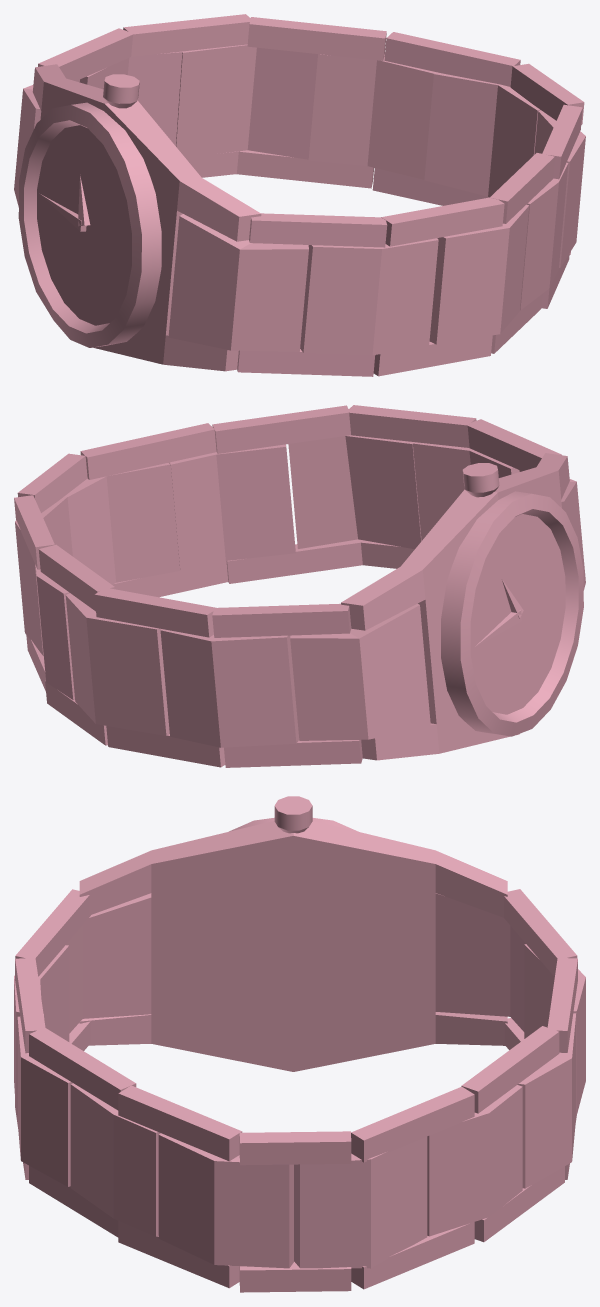
File: GoldWatch.fbx
3 renders of one model, top to bottom at view 1: azimuth 30°, elevation 25°; view 2: azimuth 150°, elevation 25°; view 3: azimuth 270°, elevation 25°, orthographic. The views are drawn at different scales.
Parts seen in each view (by area): view 1: GoldWatch; view 2: GoldWatch; view 3: GoldWatch.
Boxes of the visible parts, bbox=[...] form: GoldWatch: bbox=[14, 14, 585, 376]; GoldWatch: bbox=[14, 405, 585, 767]; GoldWatch: bbox=[14, 796, 585, 1292].
Bounding box in the file's own units: 8.35 × 4.24 × 8.06.
